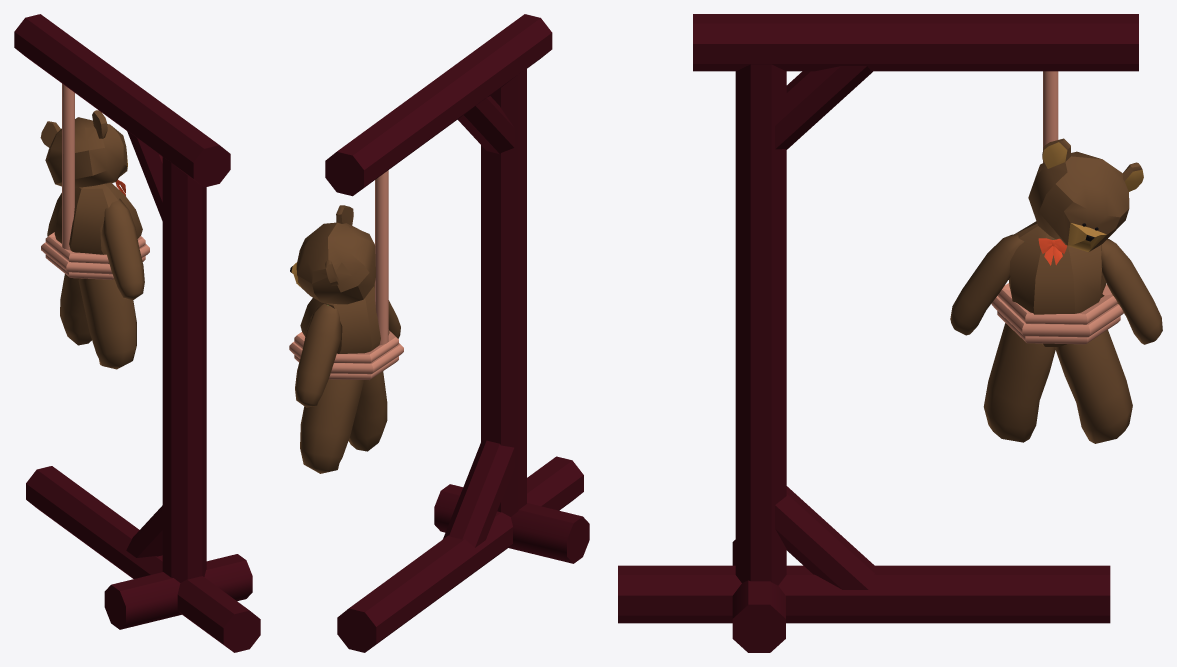
The model's file is hangman .fbx.
The picture shows the model from 3 angles, left to right: view 1: azimuth 30°, elevation 25°; view 2: azimuth 150°, elevation 25°; view 3: azimuth 270°, elevation 25°; orthographic projection. The views are drawn at different scales.
Visible parts, largest first — view 1: nr.2 plank middle, nr.1 plank base, nr.3 upper plank, nr.8 bear body, nr.7 bear head, nr.11 leg right, nr.9 arm right, nr.6 rope, nr.12 leg left, nr.4 support up, nr.5 support under; view 2: nr.2 plank middle, nr.1 plank base, nr.3 upper plank, nr.7 bear head, nr.8 bear body, nr.5 support under, nr.12 leg left, nr.10 arm left, nr.6 rope, nr.11 leg right, nr.4 support up; view 3: nr.1 plank base, nr.2 plank middle, nr.3 upper plank, nr.8 bear body, nr.7 bear head, nr.12 leg left, nr.11 leg right, nr.5 support under, nr.4 support up, nr.10 arm left, nr.9 arm right, nr.6 rope.
Part boxes in pixels (x1,y1,x2,y2): nr.2 plank middle: [162, 156, 206, 582]; nr.1 plank base: [26, 466, 260, 652]; nr.3 upper plank: [14, 14, 230, 187]; nr.8 bear body: [41, 179, 149, 279]; nr.7 bear head: [40, 110, 127, 188]; nr.11 leg right: [78, 278, 136, 369]; nr.9 arm right: [101, 198, 144, 299]; nr.6 rope: [62, 83, 74, 250]; nr.12 leg left: [60, 274, 91, 345]; nr.4 support up: [127, 130, 162, 220]; nr.5 support under: [126, 505, 162, 557]; nr.2 plank middle: [481, 68, 526, 516]; nr.1 plank base: [337, 456, 589, 652]; nr.3 upper plank: [325, 14, 552, 196]; nr.7 bear head: [290, 205, 375, 304]; nr.8 bear body: [289, 284, 403, 379]; nr.5 support under: [443, 440, 514, 547]; nr.12 leg left: [300, 379, 363, 473]; nr.10 arm left: [295, 303, 341, 407]; nr.6 rope: [375, 170, 388, 345]; nr.11 leg right: [348, 371, 387, 451]; nr.4 support up: [457, 96, 514, 153]; nr.1 plank base: [618, 539, 1110, 652]; nr.2 plank middle: [735, 64, 786, 585]; nr.3 upper plank: [693, 14, 1138, 71]; nr.8 bear body: [991, 221, 1123, 346]; nr.7 bear head: [1028, 138, 1143, 252]; nr.12 leg left: [1055, 330, 1132, 443]; nr.11 leg right: [983, 323, 1055, 442]; nr.5 support under: [775, 486, 875, 589]; nr.4 support up: [775, 66, 872, 149]; nr.10 arm left: [1101, 239, 1162, 344]; nr.9 arm right: [950, 234, 1024, 335]; nr.6 rope: [1043, 71, 1058, 162].
Bounding box in the file's own units: 277 × 896 × 738.
